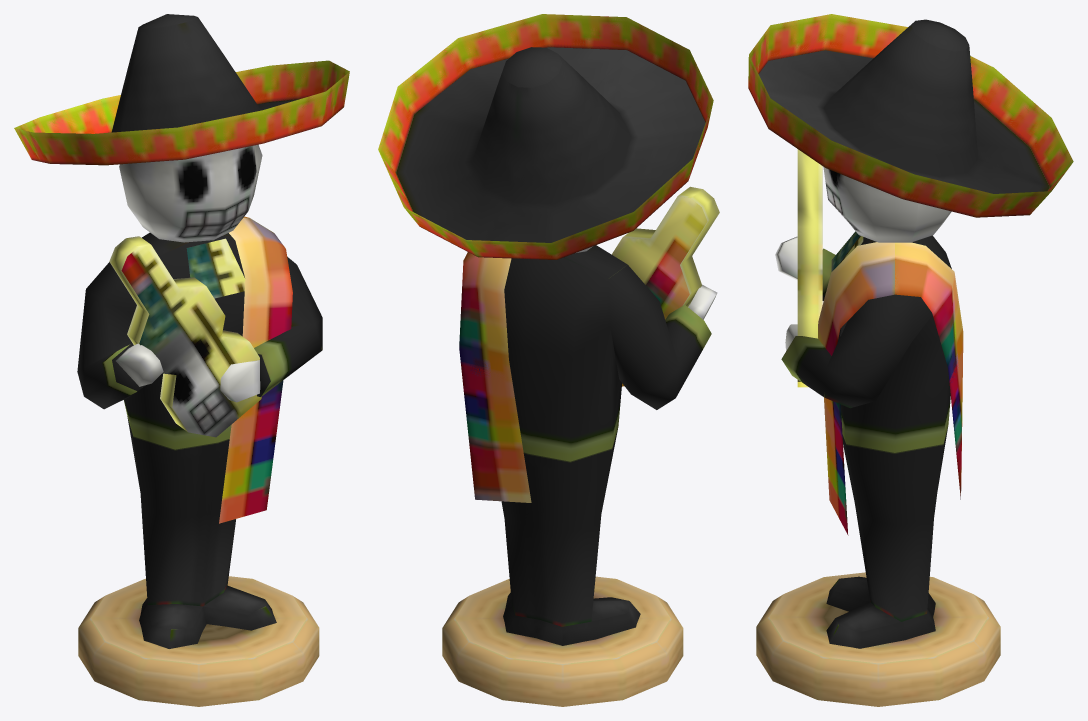
The model's file is int_jhn_skeleton.dae.
The picture shows the model from 3 angles, left to right: view 1: azimuth 30°, elevation 25°; view 2: azimuth 150°, elevation 25°; view 3: azimuth 270°, elevation 25°; orthographic projection.
Parts seen in each view (by area): view 1: int_jhn_skeleton; view 2: int_jhn_skeleton; view 3: int_jhn_skeleton.
Part boxes in pixels (x1=…): int_jhn_skeleton: x1=14, y1=14, x2=349, y2=706; int_jhn_skeleton: x1=378, y1=14, x2=719, y2=706; int_jhn_skeleton: x1=748, y1=14, x2=1073, y2=706.
Bounding box in the file's own units: 15.27 × 30.67 × 14.37.
1 material, 1 textured.
